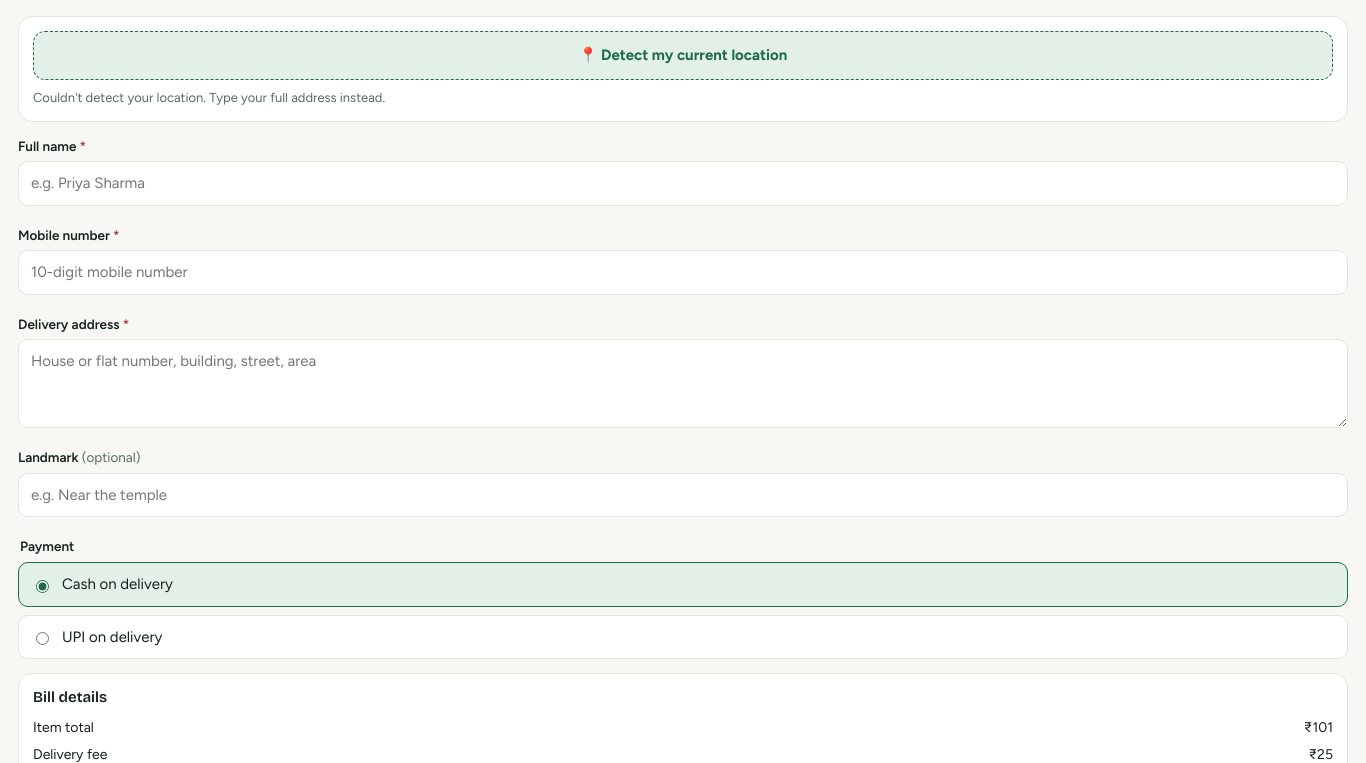
Test case: CheckoutForm › shows the store's reason when the order can't be placed
The width and height of the screenshot is (1366, 763).
Type "Priya Sharma" into the field labelled "Full name *" at [683, 184], box x1=18 y1=161 x2=1348 y2=206
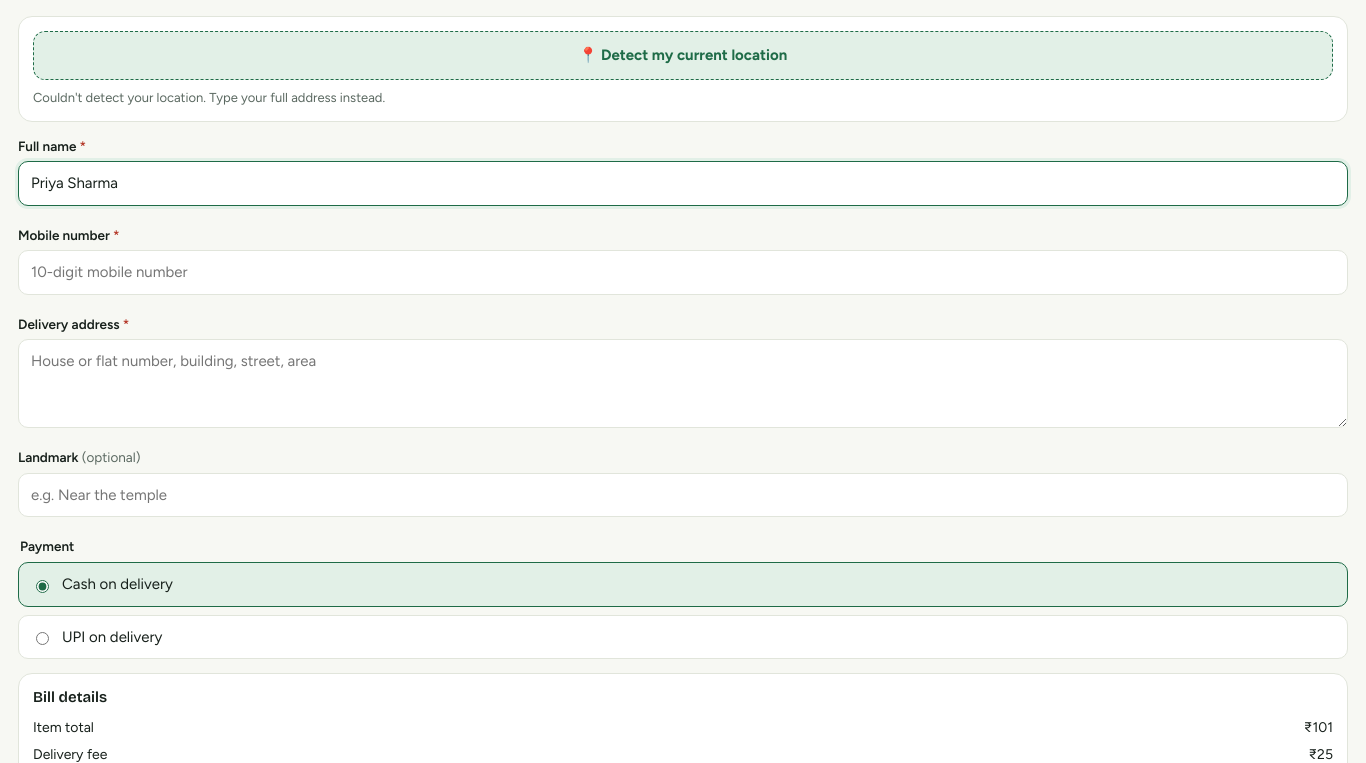
Type "9876543210" into the field labelled "Mobile number *" at [683, 272], box x1=18 y1=250 x2=1348 y2=294
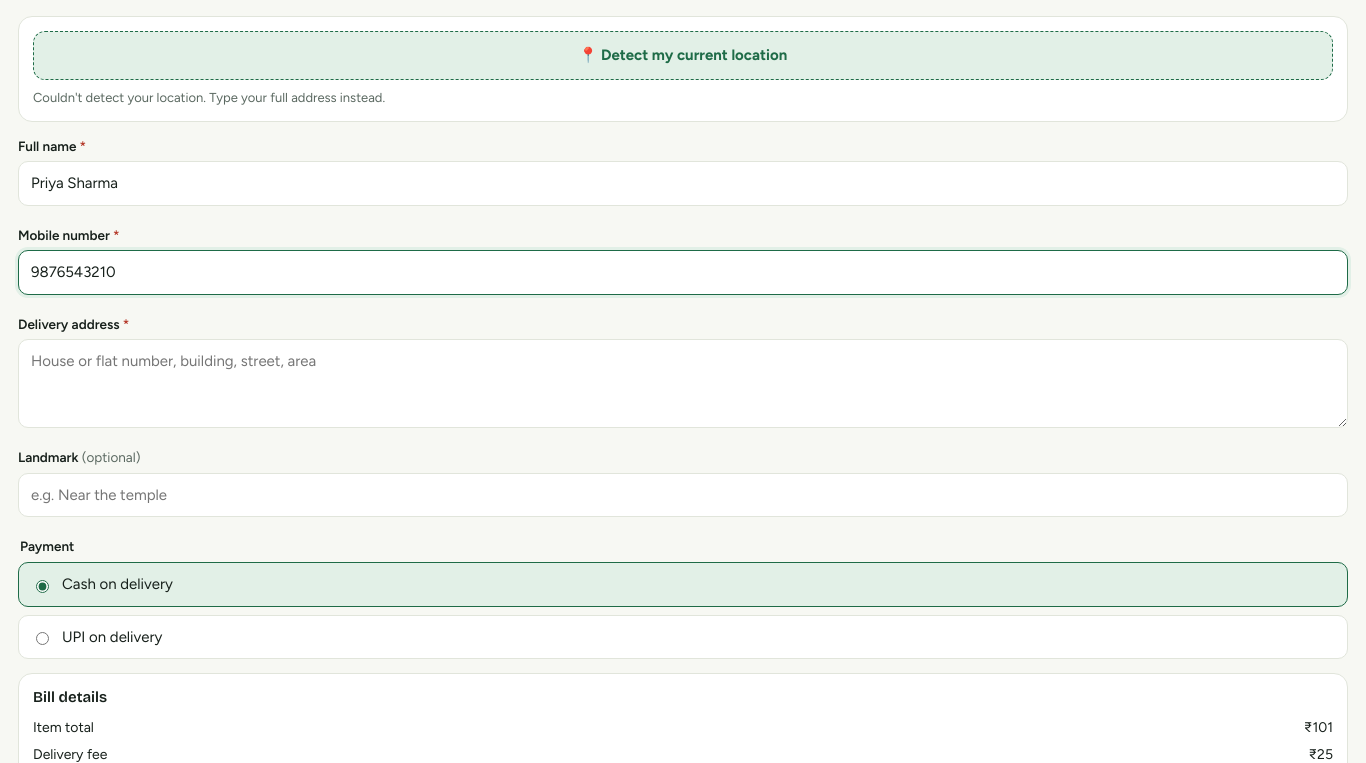
Type "Flat 302, Green Residency, Road No. 12" into the text box labelled "Delivery address *" at [683, 384], box x1=18 y1=339 x2=1348 y2=428
(page scrolled)
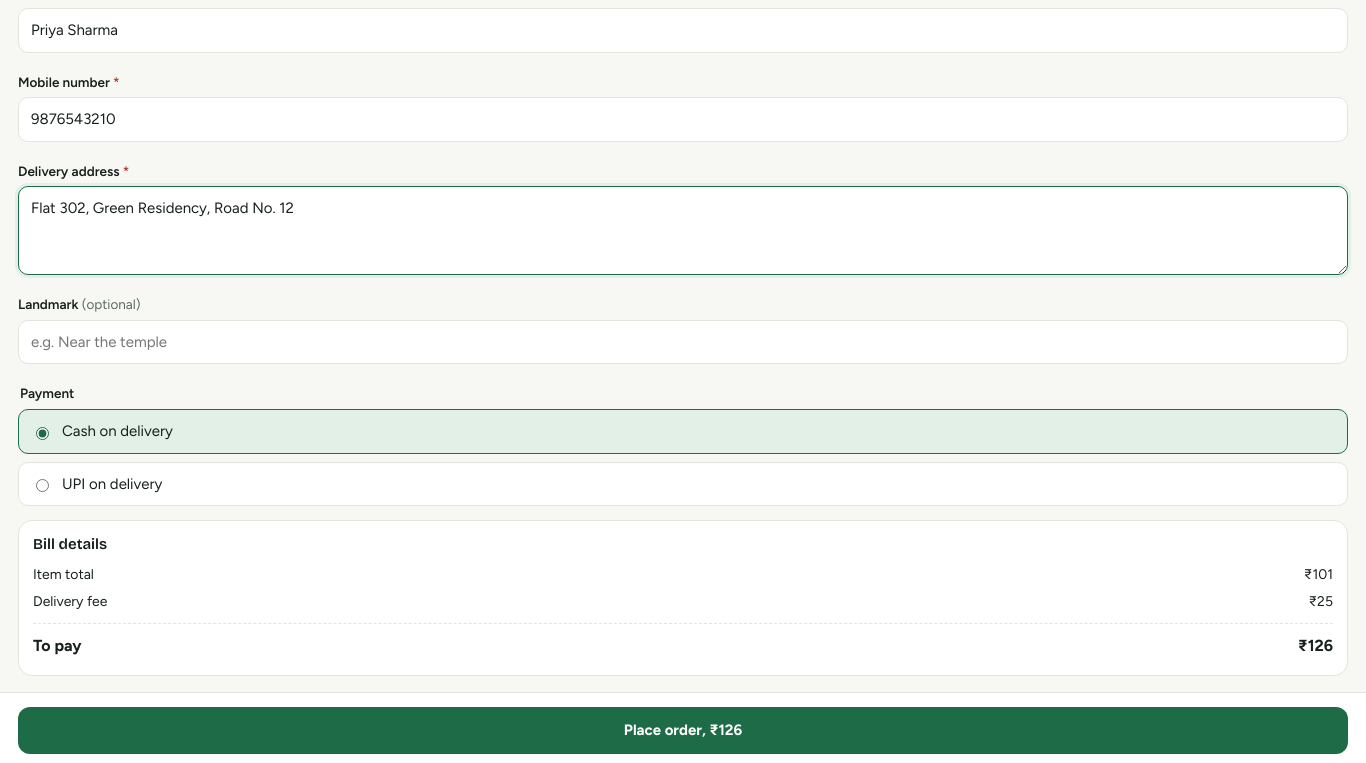
Click the button "Place order, ₹126" at [683, 731], box x1=18 y1=707 x2=1348 y2=754
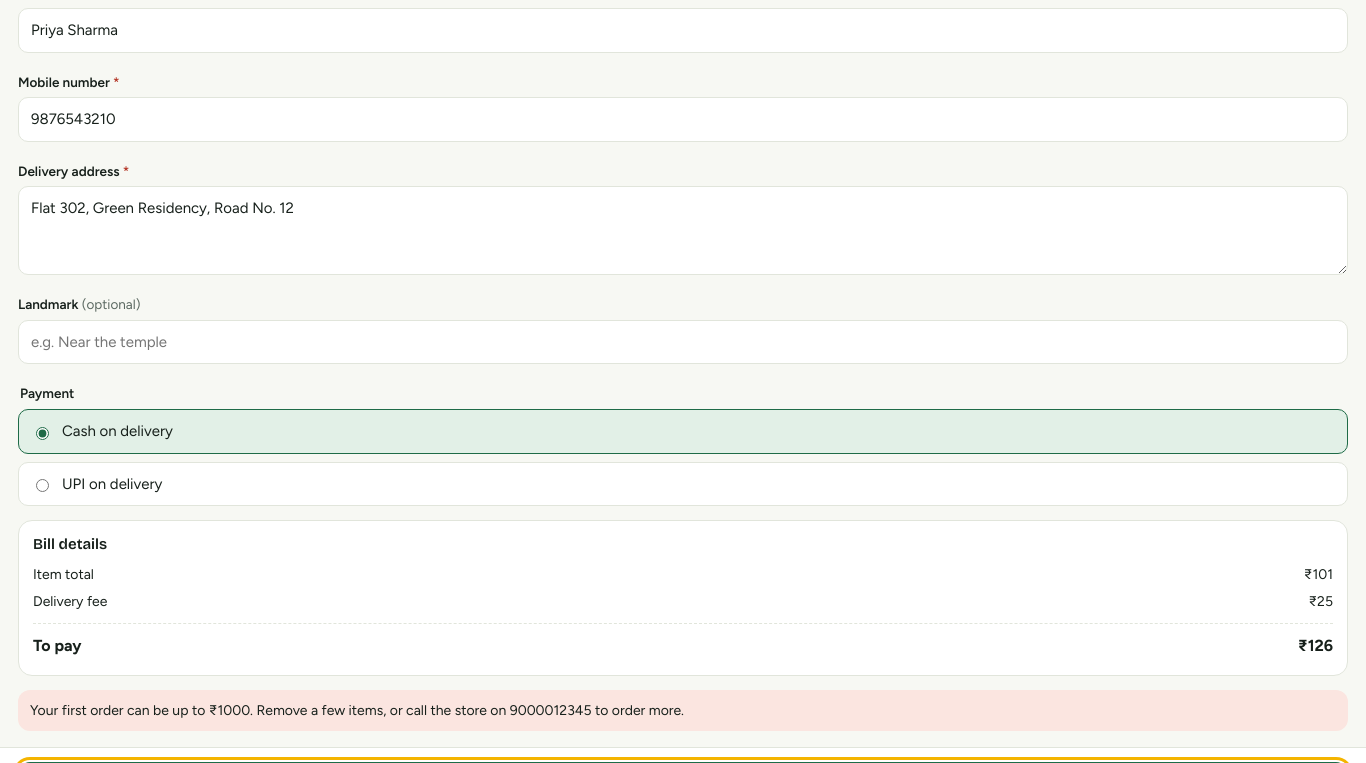
Expected: the message shows "Your first order can be up to ₹1000.", x1=30 y1=702 x2=684 y2=719
